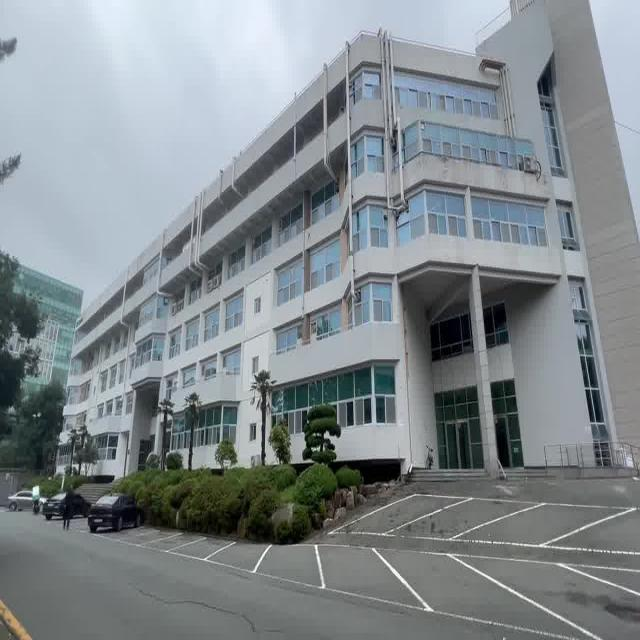building: (75, 39, 640, 463)
